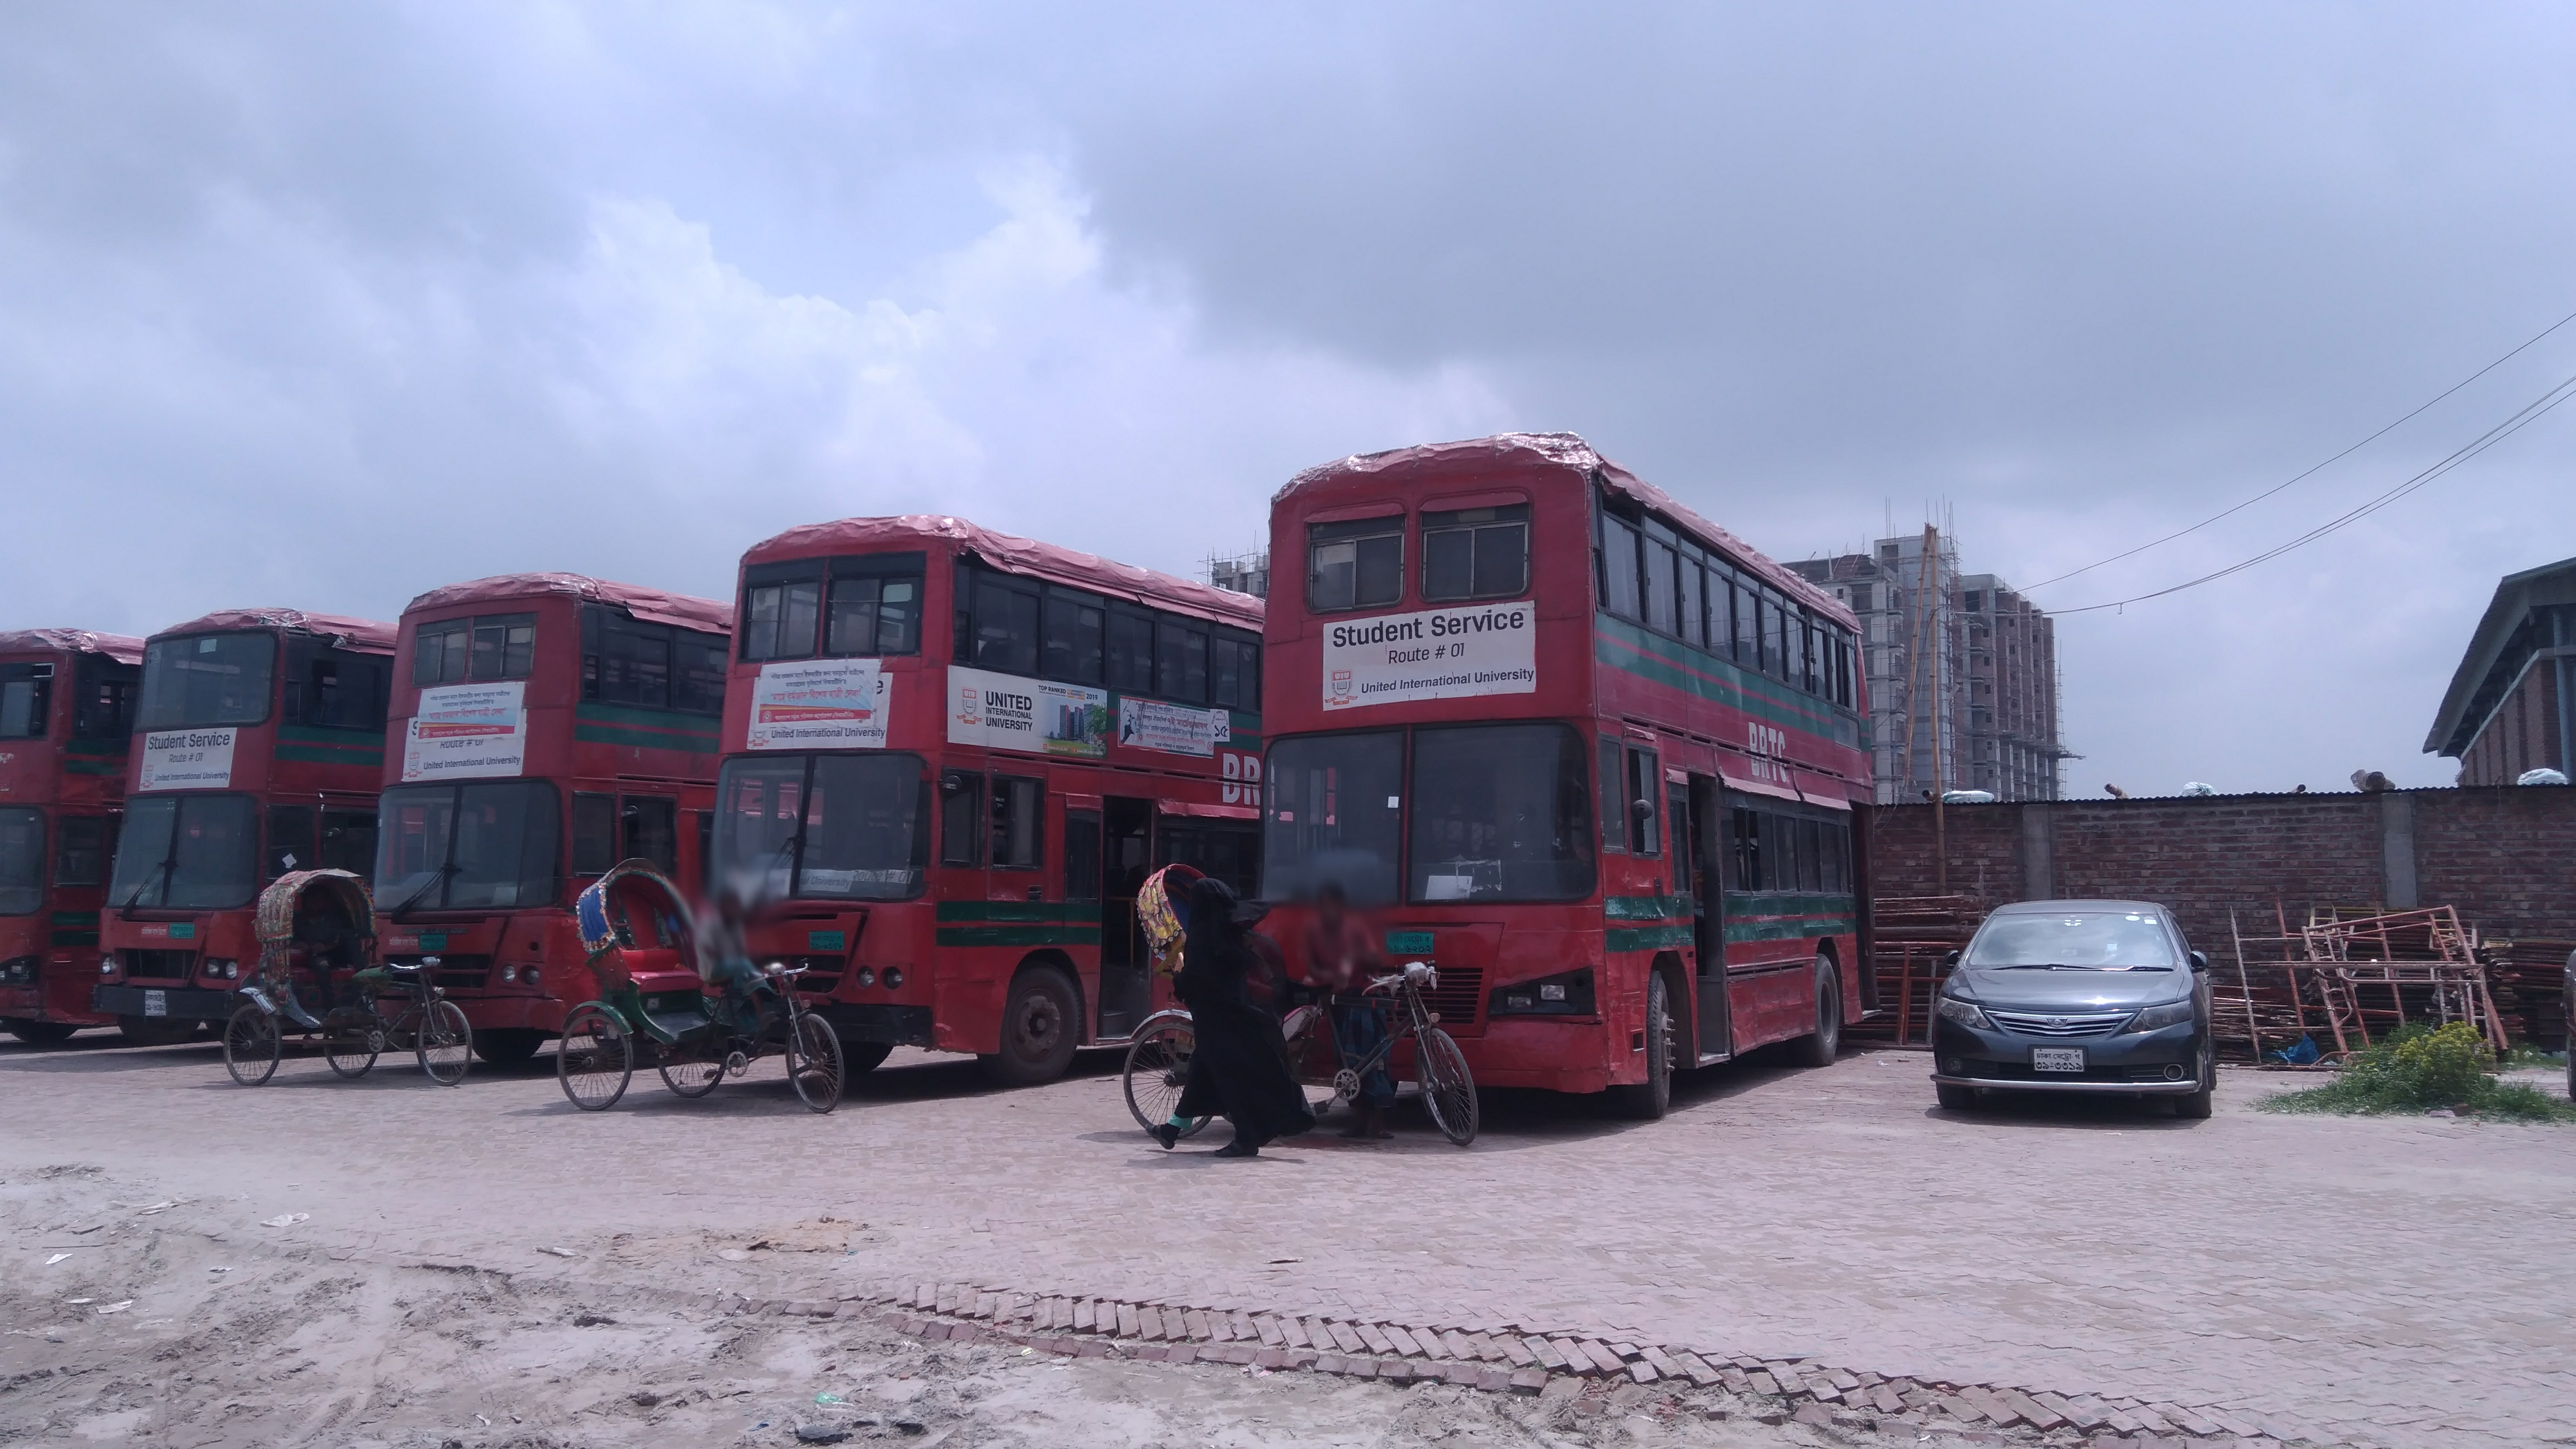bus: (1251, 428, 1902, 1143), (709, 511, 1300, 1162), (377, 566, 725, 1063), (113, 607, 375, 1062), (0, 610, 159, 1039)
car: (1928, 886, 2219, 1132)
rickshaw: (1118, 855, 1493, 1180), (545, 840, 872, 1115), (221, 849, 499, 1108)
